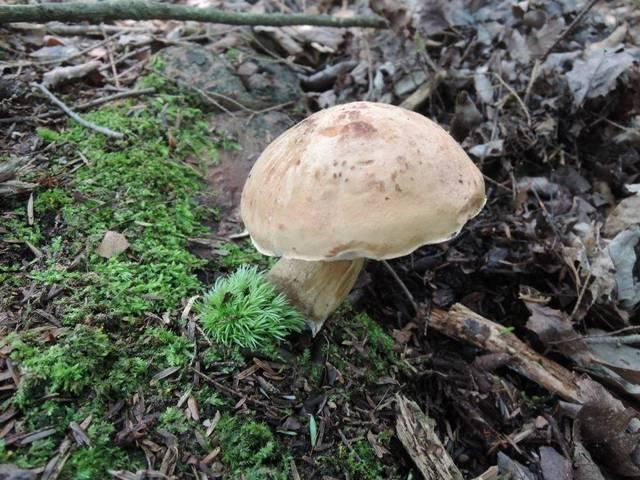poisonous_mushroom: (238, 99, 487, 338)
